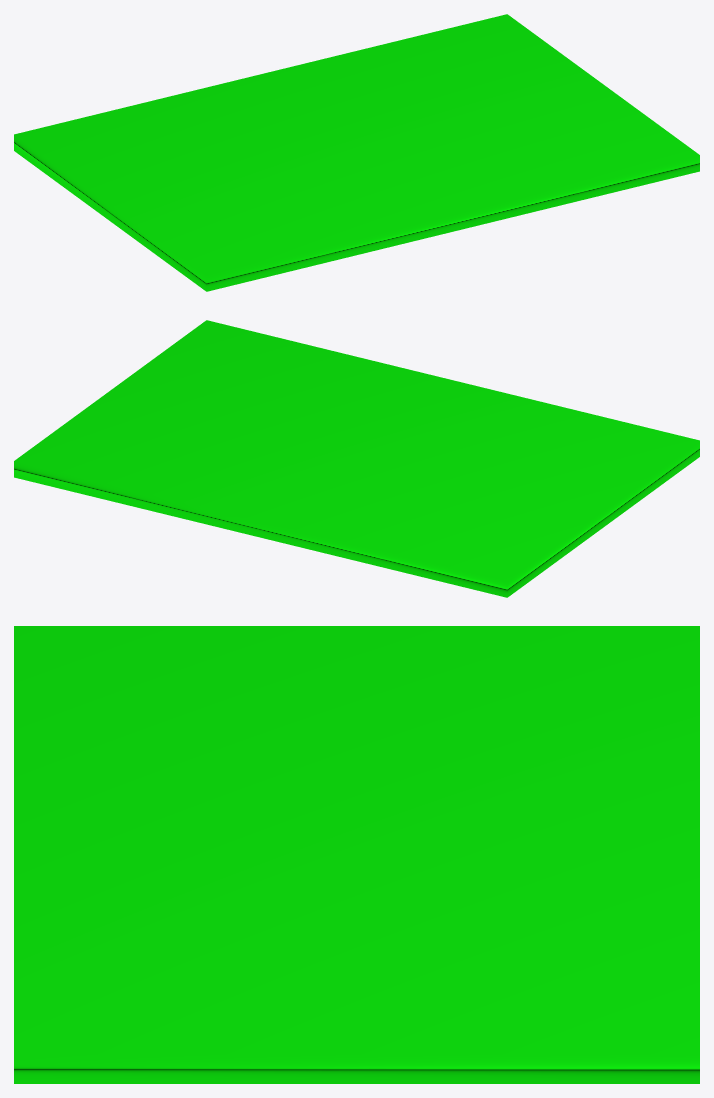
The model's file is mdl_Corredor_Techo_oficina.fbx.
The picture shows the model from 3 angles, top to bottom: view 1: azimuth 30°, elevation 25°; view 2: azimuth 150°, elevation 25°; view 3: azimuth 270°, elevation 25°; orthographic projection. The views are drawn at different scales.
Parts seen in each view (by area): view 1: mdl_Corredor_Techo_oficina; view 2: mdl_Corredor_Techo_oficina; view 3: mdl_Corredor_Techo_oficina.
Part boxes in pixels (x1=…): mdl_Corredor_Techo_oficina: x1=14, y1=14, x2=699, y2=291; mdl_Corredor_Techo_oficina: x1=14, y1=320, x2=699, y2=597; mdl_Corredor_Techo_oficina: x1=14, y1=626, x2=699, y2=1083.
Size of the model in its own units: 9.05 by 0.2871 by 6.12.
